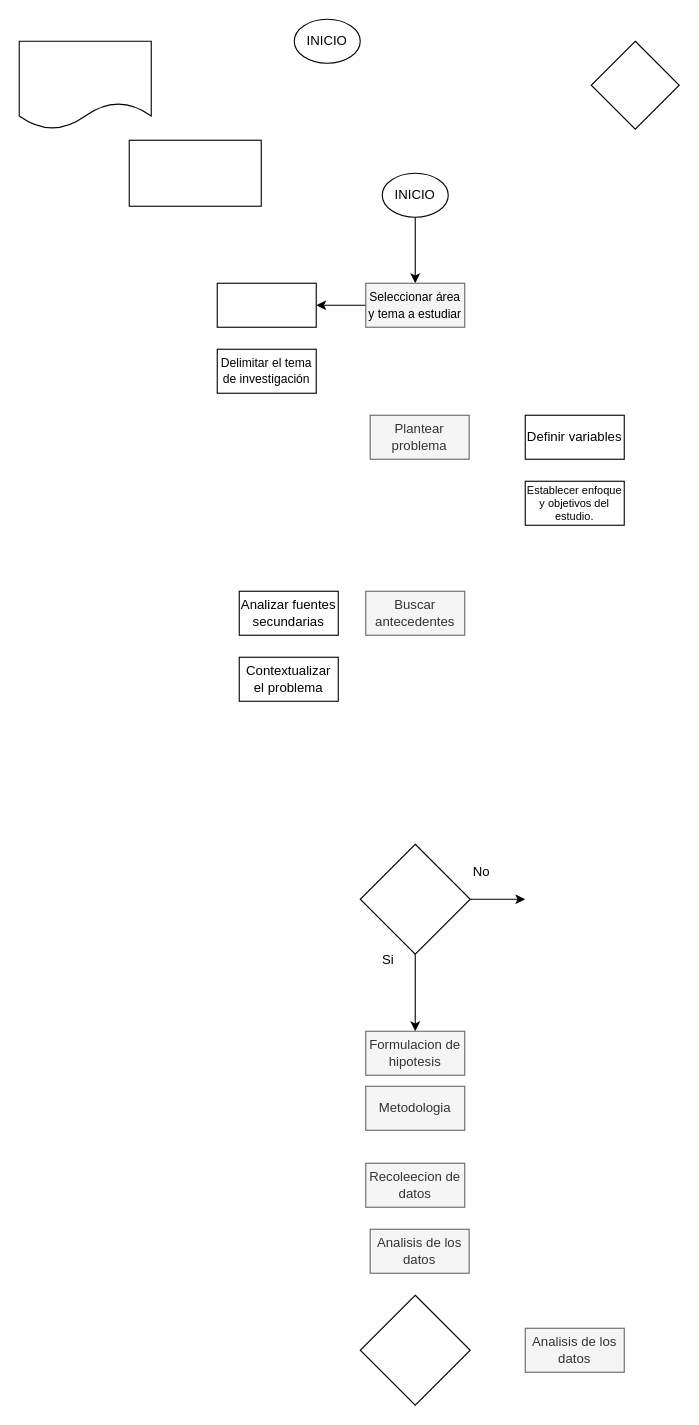
This 699x1425 diagram has some shape labels left out. The centre of each missing label's shape, as x and y in pixels:
"Identificar fenomeno" goes at [266,304].
"¿Hay suficiente información?" goes at [414,898].
"¿La hipótesis es apoyada por los datos?" goes at [414,1349].
